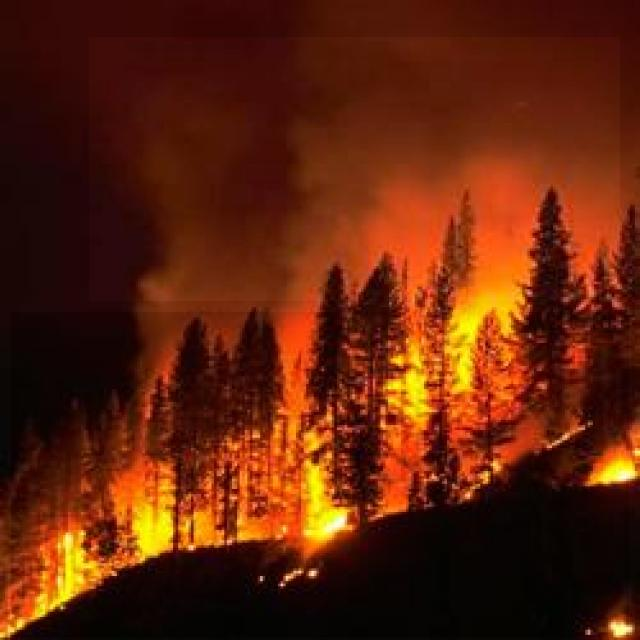Fire: (11, 312, 630, 637)
Smoke: (89, 37, 620, 301)
